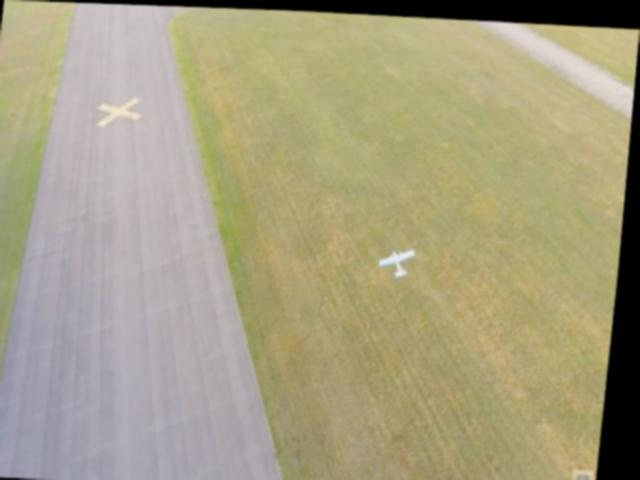uav: (383, 238, 422, 274)
